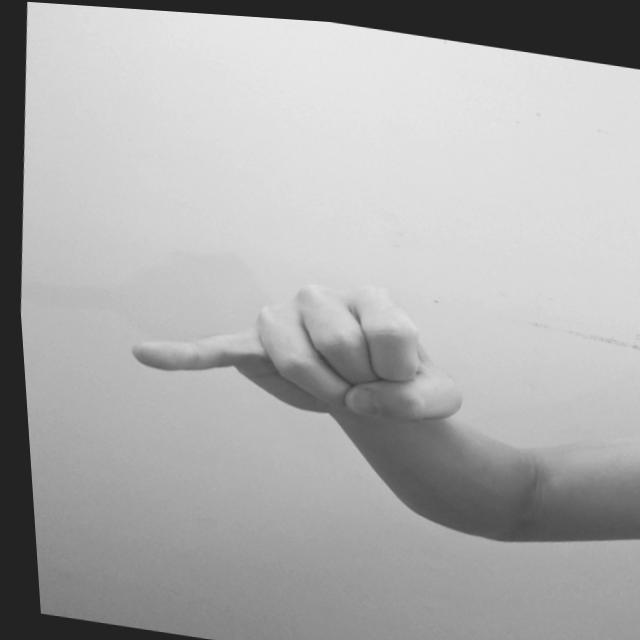J: (106, 235, 484, 439)
